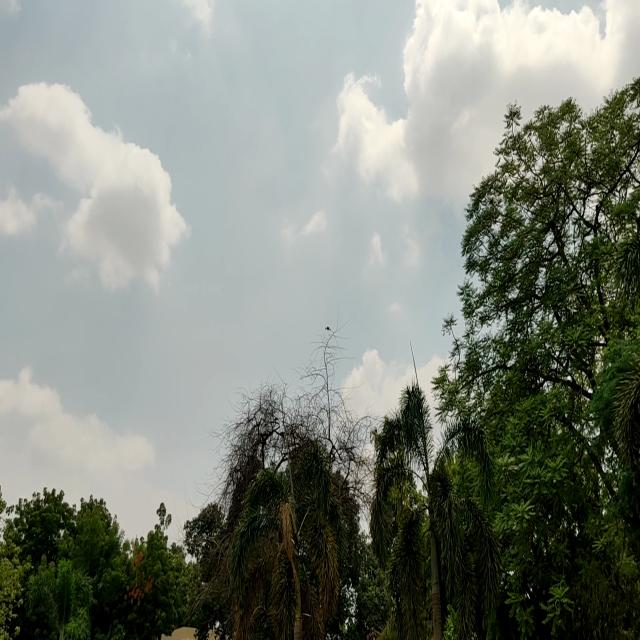drone: (320, 319, 337, 335)
